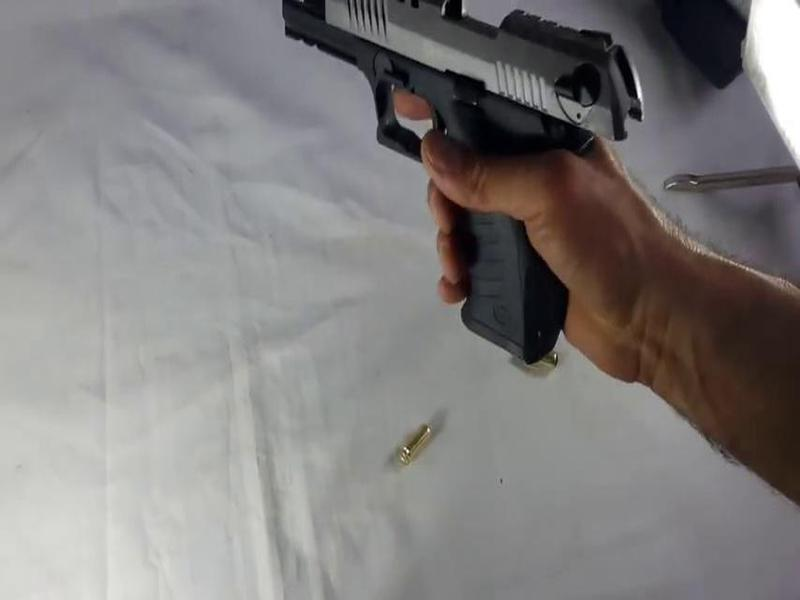Pistola: (250, 1, 661, 366)
